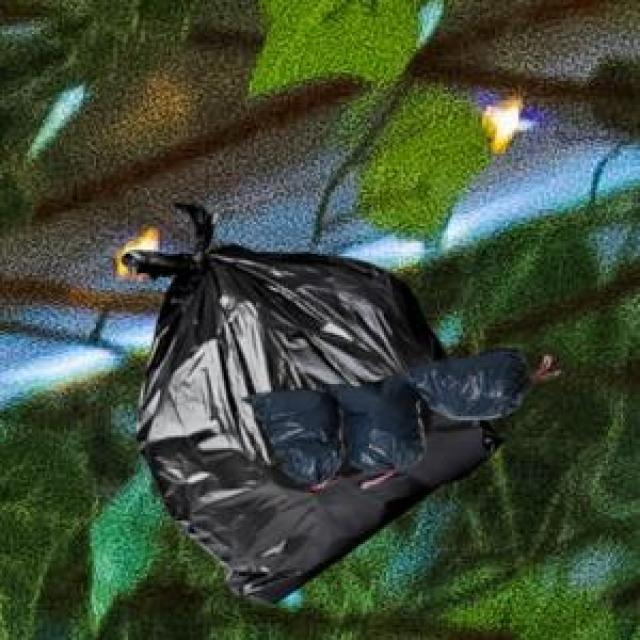miscellaneous trash: (117, 198, 501, 600), (239, 344, 527, 484)
